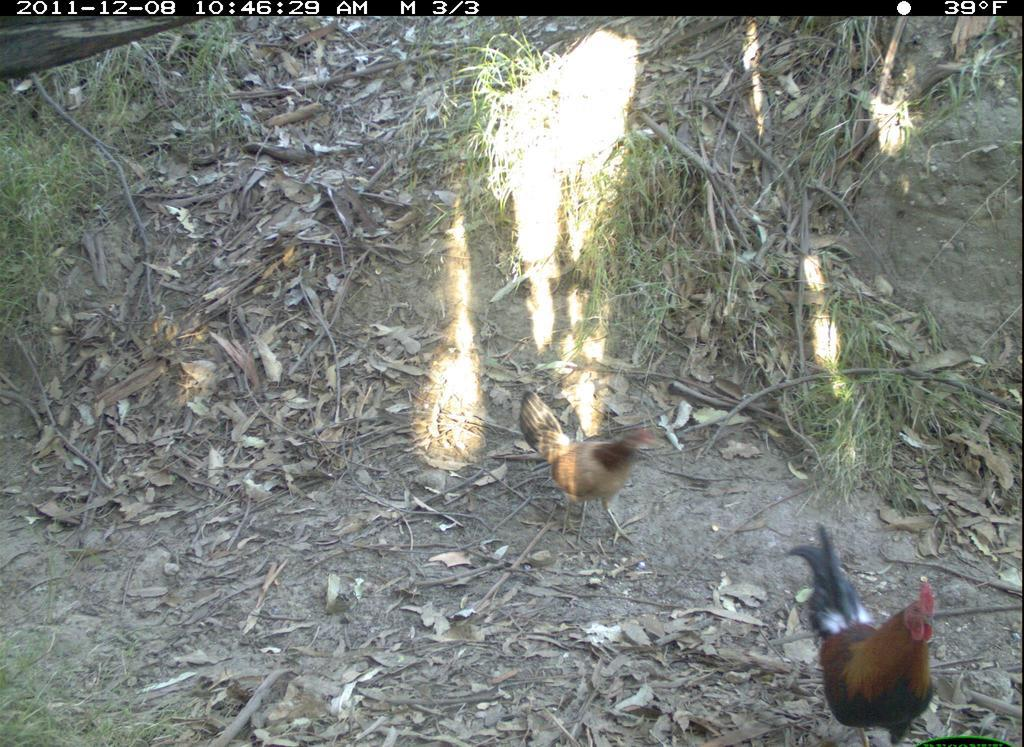bird: (781, 518, 957, 747), (501, 376, 666, 562)
